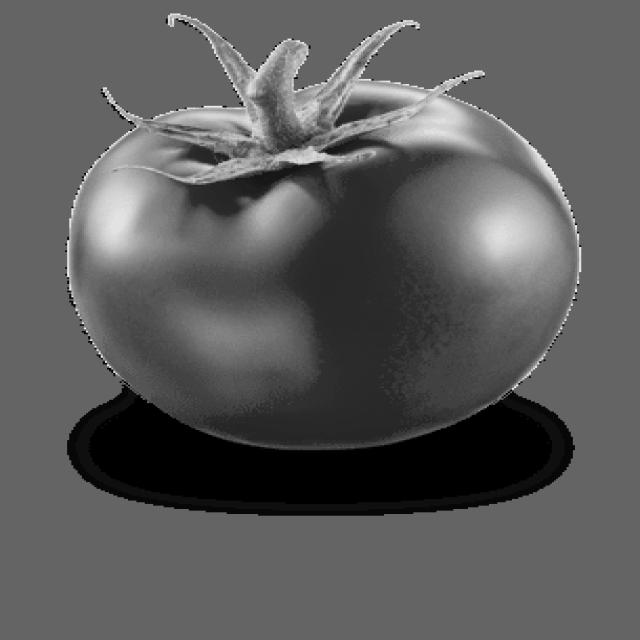Fresh_tomato: (92, 100, 554, 443)
